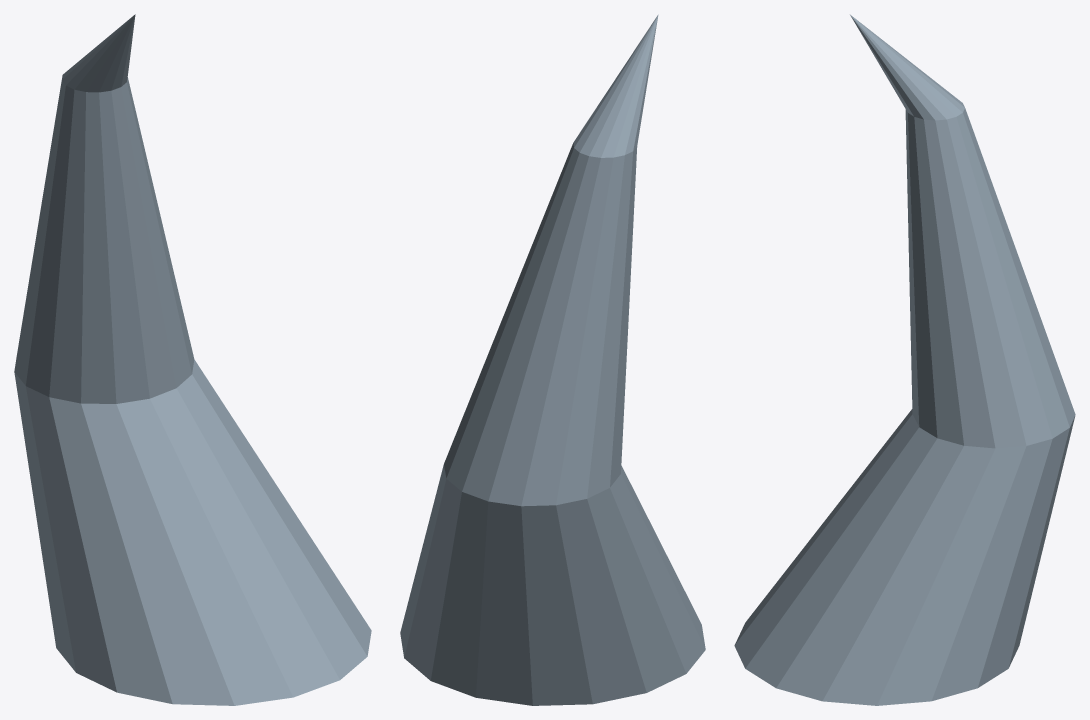
File: Rochers.fbx
The picture shows the model from 3 angles, left to right: view 1: azimuth 30°, elevation 25°; view 2: azimuth 150°, elevation 25°; view 3: azimuth 270°, elevation 25°; orthographic projection. The views are drawn at different scales.
Visible parts, largest first — view 1: Cylinder.002; view 2: Cylinder.002; view 3: Cylinder.002.
Boxes of the visible parts, box(x1,y1,x2,y2) form: Cylinder.002: box(14, 14, 371, 705); Cylinder.002: box(400, 14, 705, 705); Cylinder.002: box(734, 14, 1075, 705).
Size of the model in its own units: 96.23 by 220 by 115.
